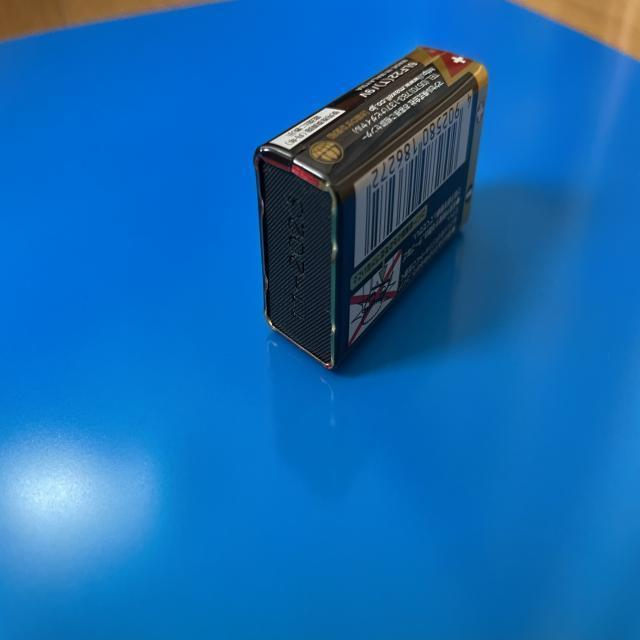9V: (253, 45, 489, 374)
